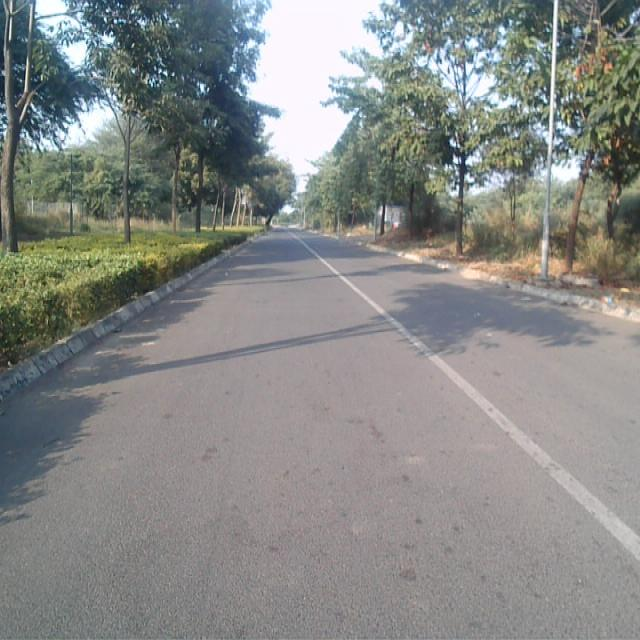lane: (0, 236, 640, 640)
